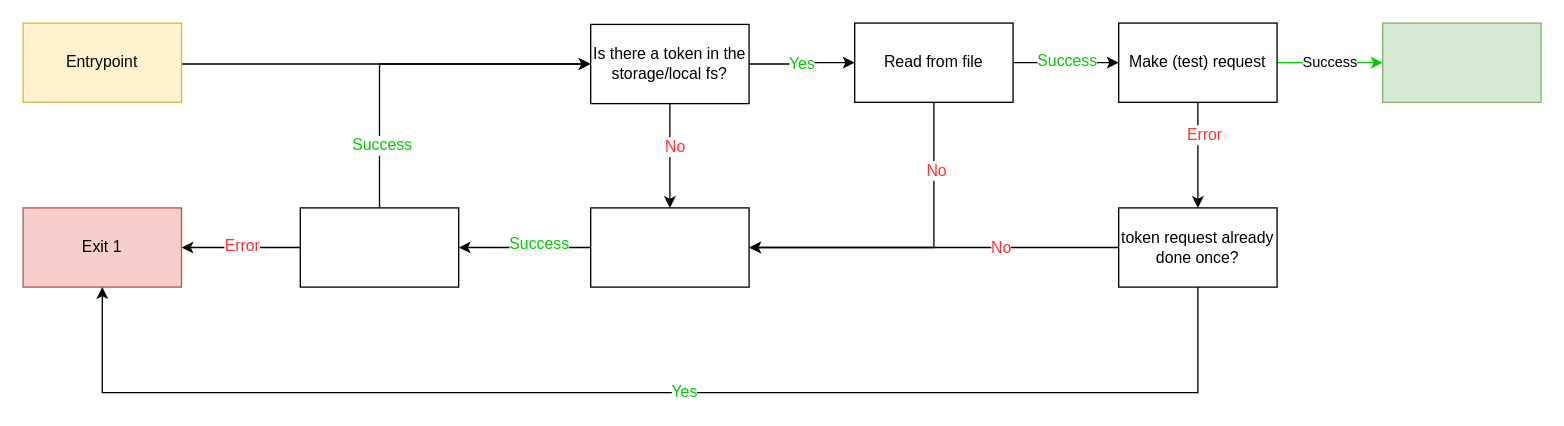
The diagram is 1564 pixels wide and 426 high, and some of its shapes have lost their labels. Each missing label, with the centre of its shape:
"Make desired request" belongs at point 1461,62.
"Request a new one once" belongs at point 669,247.
"Write to file" belongs at point 379,247.
